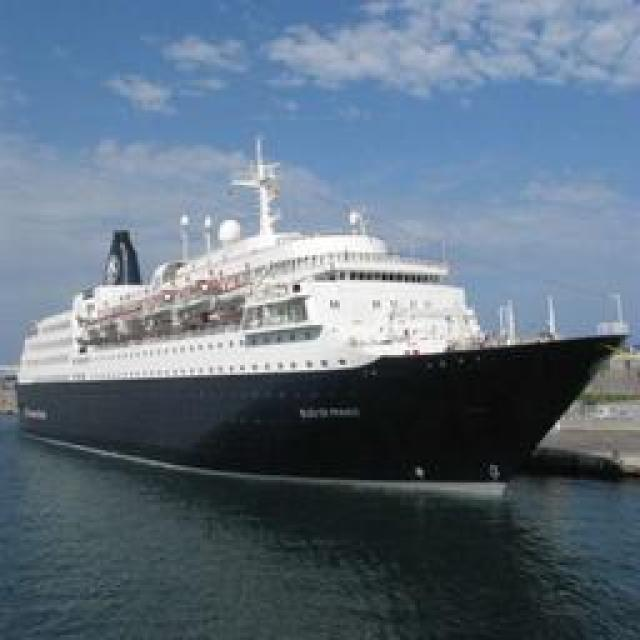ship2: (15, 135, 630, 487)
